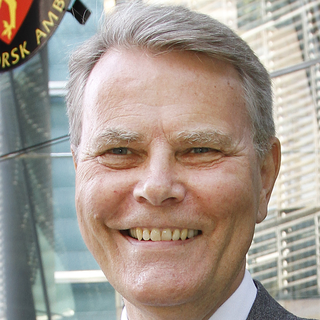eye: (176, 142, 224, 159), (97, 143, 140, 161)
